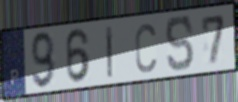6: (64, 27, 92, 86)
7: (200, 12, 227, 66)
9: (29, 30, 57, 91)
C: (133, 21, 158, 75)
I: (105, 24, 114, 80)
S: (164, 14, 196, 74)
